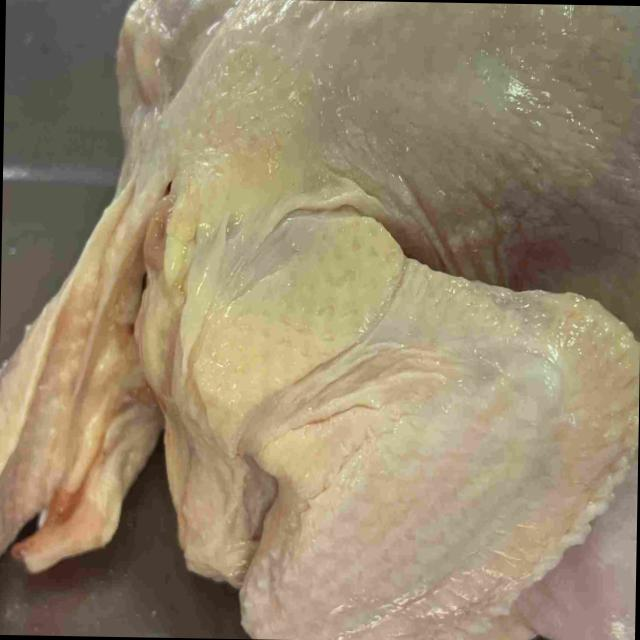back: (283, 0, 640, 246)
neck: (0, 144, 157, 560)
wing: (181, 207, 639, 640), (121, 0, 223, 127)
